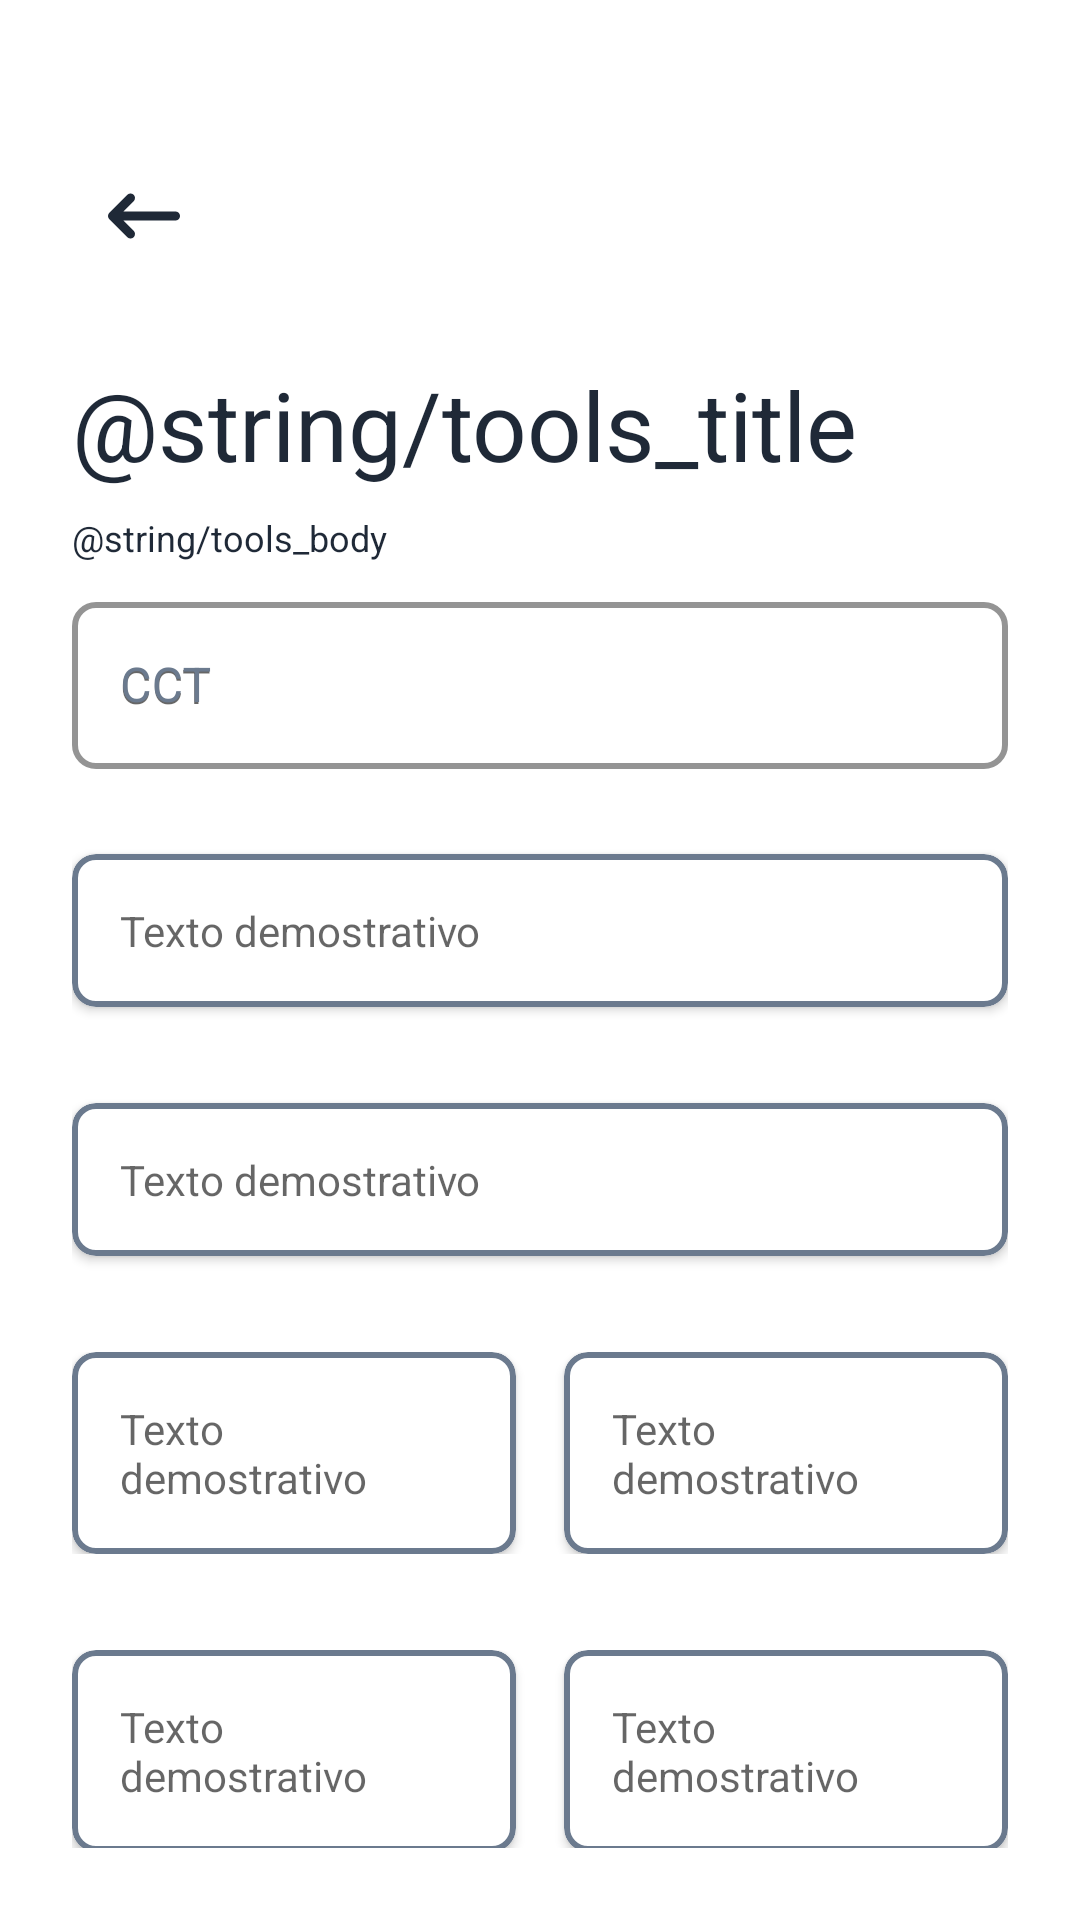

Named icons in this screenshot (1080×1920) and their centers, point (x, y):
return: point (144, 216)
